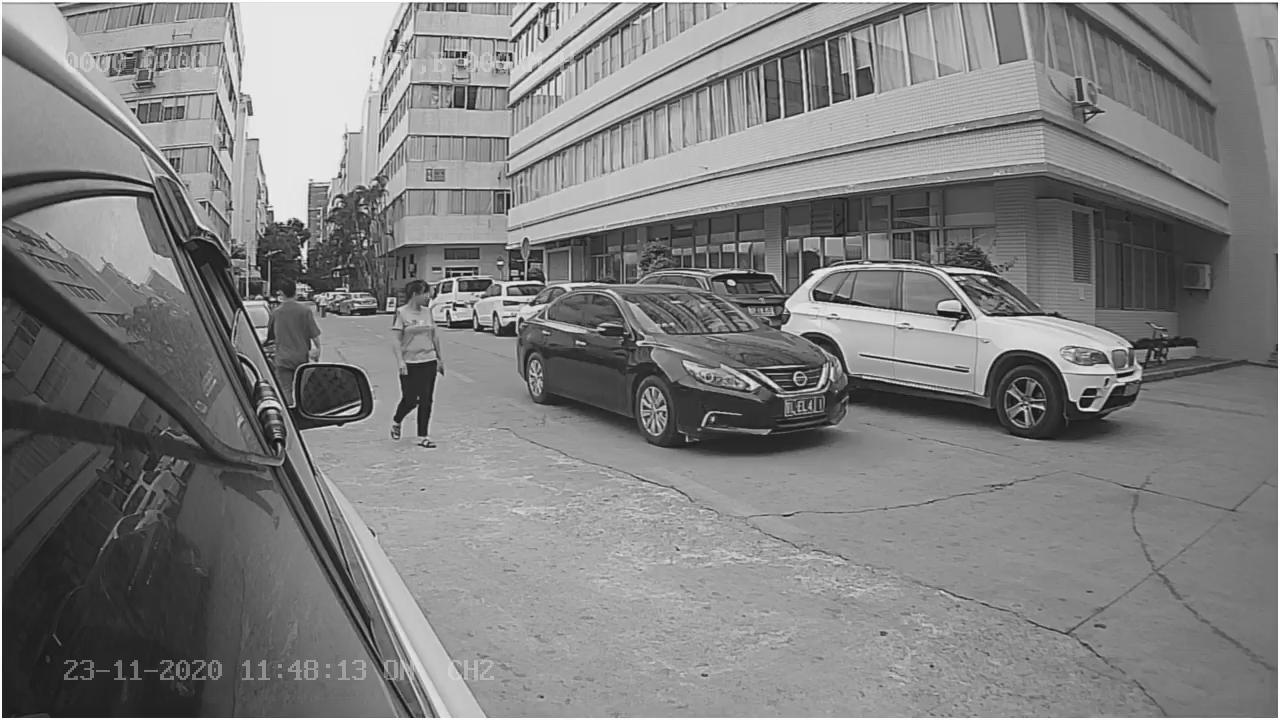person: (382, 277, 445, 453)
